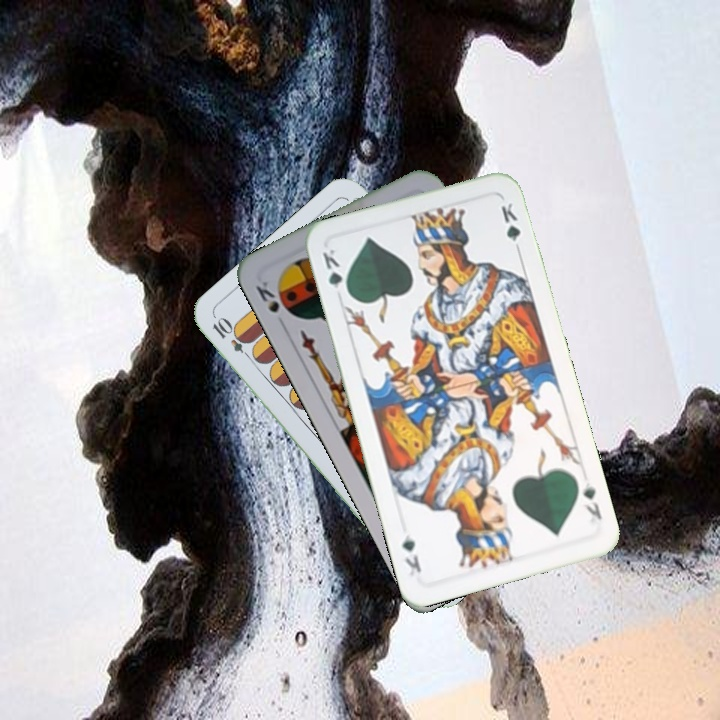E10: (208, 314, 257, 364)
GK: (318, 245, 352, 299), (579, 478, 605, 522)
SK: (251, 277, 282, 316)
